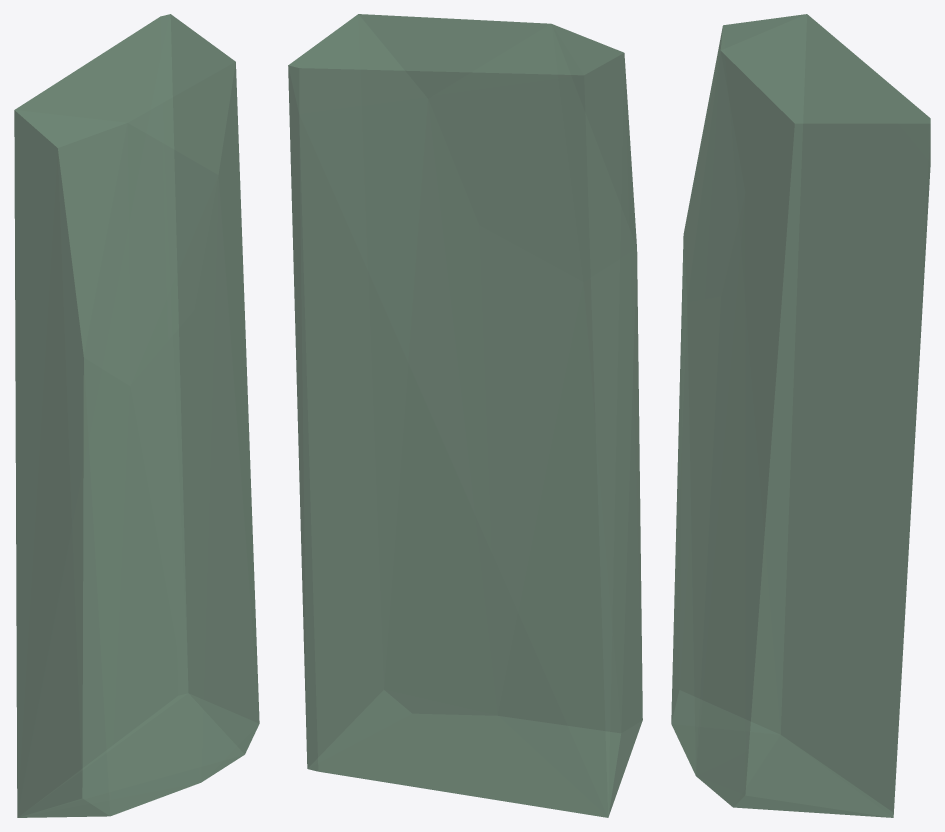
The picture shows the model from 3 angles, left to right: view 1: azimuth 30°, elevation 25°; view 2: azimuth 150°, elevation 25°; view 3: azimuth 270°, elevation 25°; orthographic projection. The views are drawn at different scales.
Visible parts, largest first — view 1: Shape_IndexedFaceSet.059_Shape_IndexedFaceSet.2024; view 2: Shape_IndexedFaceSet.059_Shape_IndexedFaceSet.2024; view 3: Shape_IndexedFaceSet.059_Shape_IndexedFaceSet.2024.
Part boxes in pixels (x1,y1,x2,y2): Shape_IndexedFaceSet.059_Shape_IndexedFaceSet.2024: (14, 14, 259, 817); Shape_IndexedFaceSet.059_Shape_IndexedFaceSet.2024: (288, 14, 642, 817); Shape_IndexedFaceSet.059_Shape_IndexedFaceSet.2024: (671, 14, 930, 817).
Size of the model in its own units: 0.1167 by 0.3447 by 0.1117.
